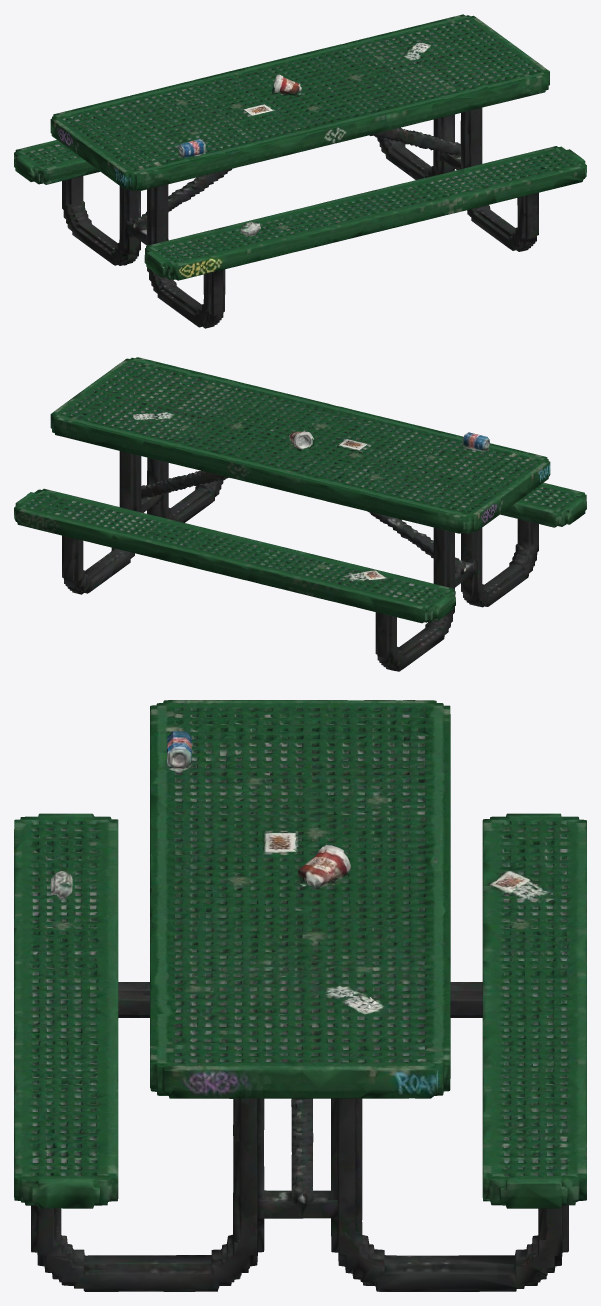
Rendered from picnic_table.glb.
3 renders of one model, top to bottom at view 1: azimuth 30°, elevation 25°; view 2: azimuth 150°, elevation 25°; view 3: azimuth 270°, elevation 25°, orthographic. The views are drawn at different scales.
Visible parts, largest first — view 1: mesh_node; view 2: mesh_node; view 3: mesh_node.
Part boxes in pixels (x1,y1,x2,y2): mesh_node: (14,14,586,328); mesh_node: (14,357,586,671); mesh_node: (14,700,586,1291).
Size of the model in its own units: 1.9 by 0.7034 by 1.25.
1 material, 1 textured.
